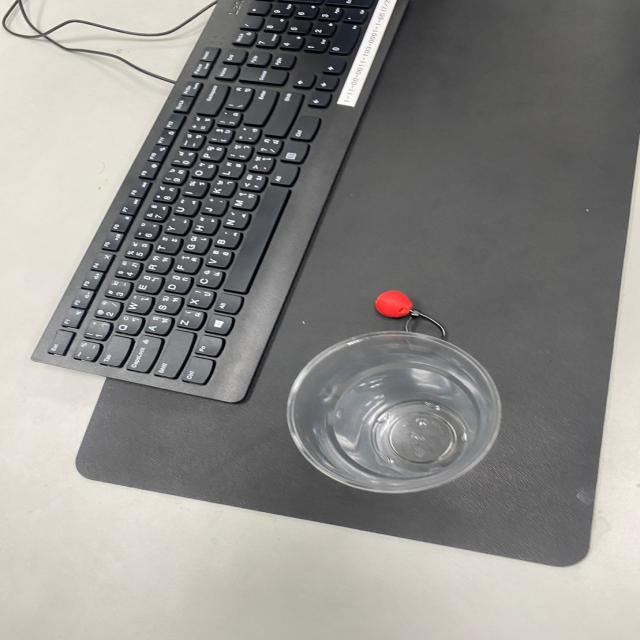glass: (285, 326, 506, 496)
